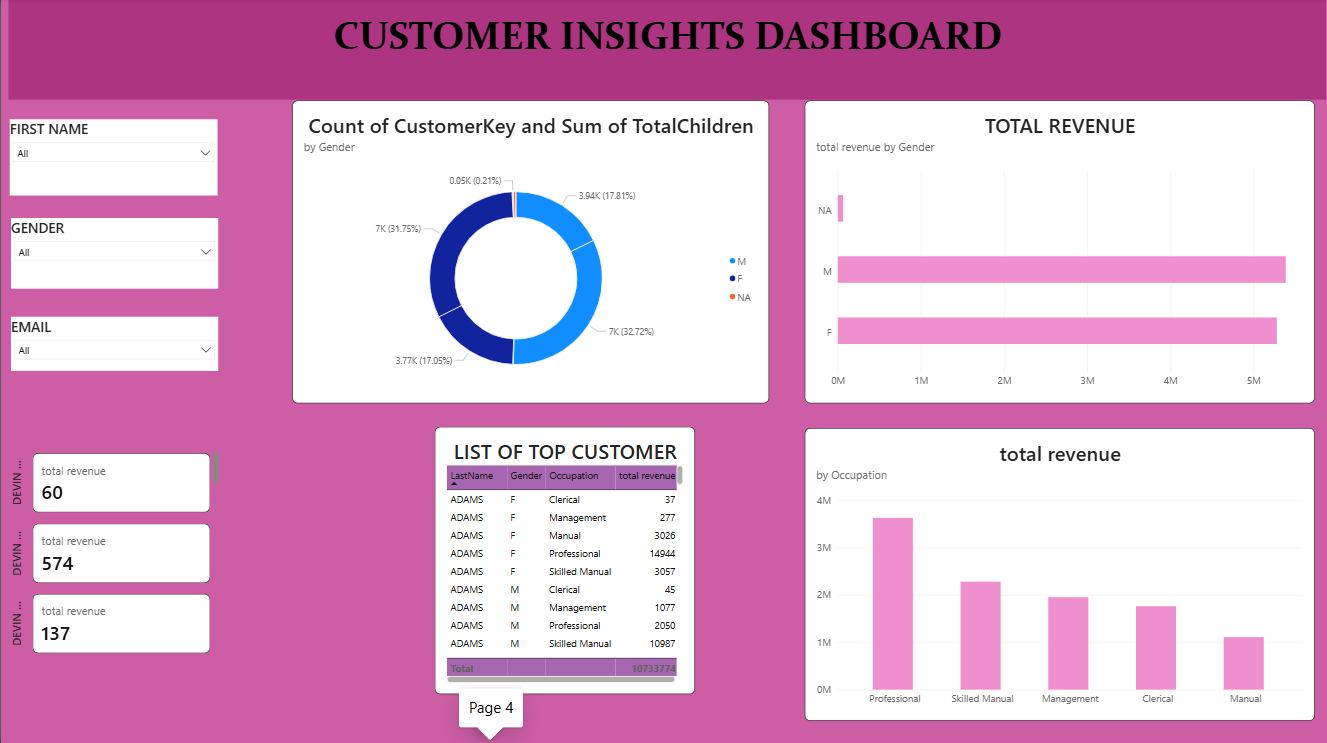

Layout of this report page (visuals, bound fields, positions):
{"tool":"powerbi","page":{"name":"Page 4","canvas":[1920,1080],"ordinal":3},"visuals":[{"type":"textbox","box":[10.8,0,1908.8,147.2],"z":0},{"type":"donutChart","fields":{"Category":["Customers (1).Gender"],"Y":["CountNonNull(Customers (1).CustomerKey)","Sum(Customers (1).TotalChildren)"]},"box":[422,148,690,438],"z":1},{"type":"clusteredColumnChart","fields":{"Category":["Customers (1).Occupation"],"Y":["Calendar (1).total revenue"]},"box":[1164,622,738,424],"z":2},{"type":"clusteredBarChart","title":"TOTAL REVENUE","fields":{"Category":["Customers (1).Gender"],"Y":["Calendar (1).total revenue"]},"box":[1164,148,738,438],"z":3},{"type":"tableEx","title":"LIST OF TOP CUSTOMER","fields":{"Values":["Customers (1).LastName","Customers (1).Gender","Customers (1).Occupation","Calendar (1).total revenue"]},"box":[627.6,621.1,376.6,387.4],"z":4},{"type":"cardVisual","fields":{"Data":["Calendar (1).total revenue"],"Rows":["Customers (1).FirstName","Customers (1).LastName"]},"box":[10,658,304,298],"z":5},{"type":"slicer","title":"FIRST NAME","fields":{"Values":["Customers (1).FirstName"]},"box":[13,175.3,300.8,110.4],"z":6},{"type":"slicer","title":"GENDER","fields":{"Values":["Customers (1).Gender"]},"box":[14,318,300,102],"z":7},{"type":"slicer","title":"EMAIL","fields":{"Values":["Customers (1).EmailAddress"]},"box":[14,462,300,78],"z":8}]}

Visuals, with their boxes in screenshot pixels (x1, y1, x2, y2), scaled from the page's 1920x1080 canvas onto the 1327x743 screenshot:
textbox: bbox=[7, 0, 1326, 101]
donutChart - Customers (1).Gender x CountNonNull(Customers (1).CustomerKey): bbox=[292, 102, 769, 403]
clusteredColumnChart - Customers (1).Occupation x Calendar (1).total revenue: bbox=[804, 428, 1315, 720]
"TOTAL REVENUE" clusteredBarChart: bbox=[804, 102, 1315, 403]
"LIST OF TOP CUSTOMER" tableEx: bbox=[434, 427, 694, 694]
cardVisual - Calendar (1).total revenue x Customers (1).FirstName: bbox=[7, 453, 217, 658]
"FIRST NAME" slicer: bbox=[9, 121, 217, 197]
"GENDER" slicer: bbox=[10, 219, 217, 289]
"EMAIL" slicer: bbox=[10, 318, 217, 372]
